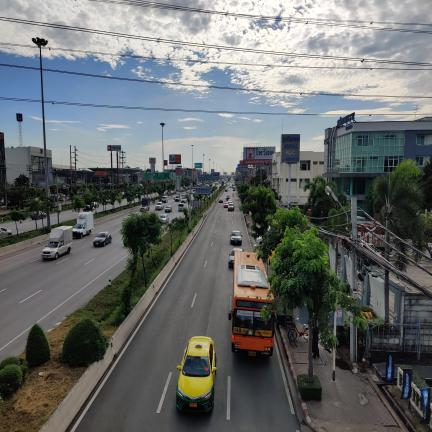bus: (229, 251, 276, 356), (270, 295, 273, 301)
car: (228, 248, 244, 268), (93, 231, 112, 246), (230, 230, 242, 245), (30, 211, 47, 220), (0, 227, 12, 238)
taxi: (176, 336, 216, 411)
truck: (41, 226, 73, 259), (73, 212, 94, 238), (140, 197, 150, 211)
